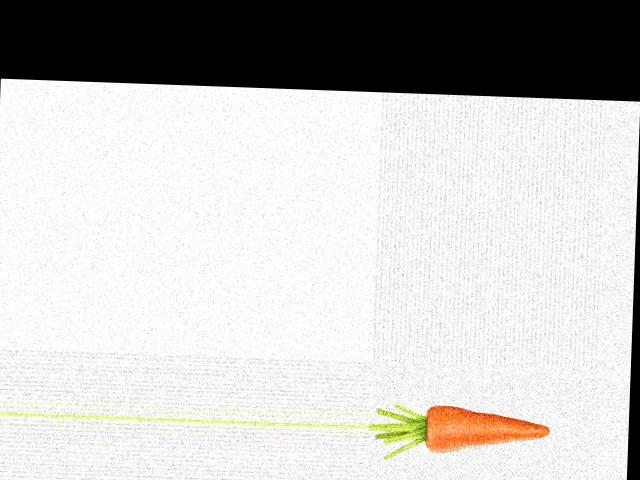carrot: (415, 394, 557, 459)
